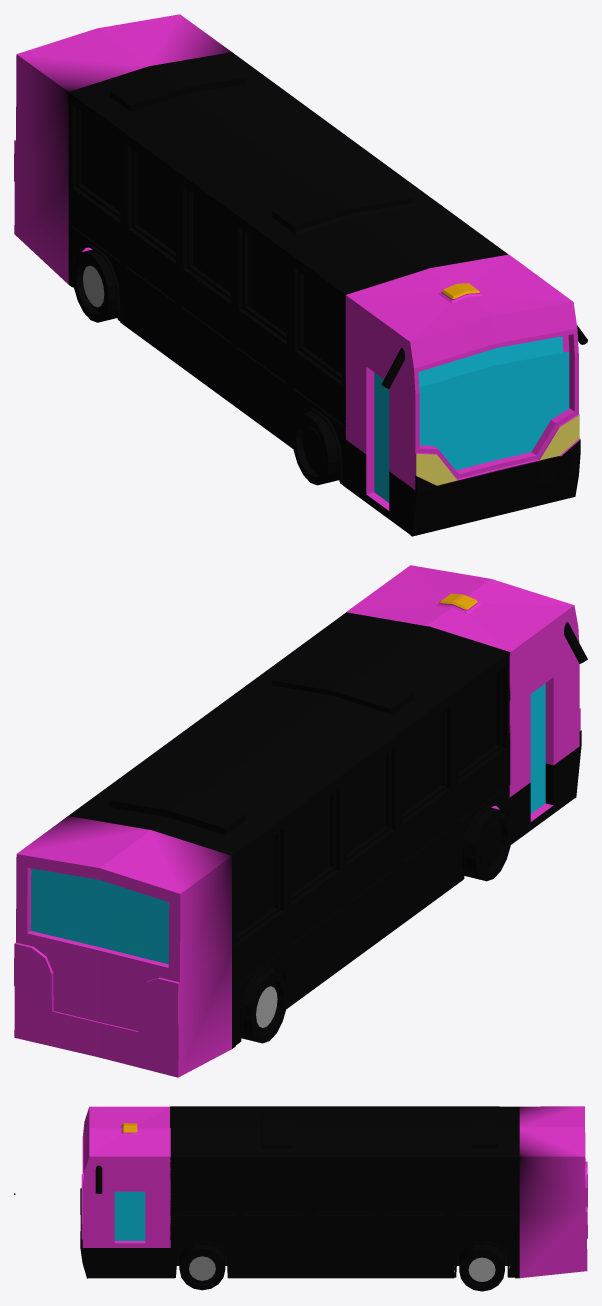
The model's file is Camion_Unity2.fbx.
3 renders of one model, top to bottom at view 1: azimuth 30°, elevation 25°; view 2: azimuth 150°, elevation 25°; view 3: azimuth 270°, elevation 25°, orthographic. The views are drawn at different scales.
Parts seen in each view (by area): view 1: Carroceria_trasera, Carroceria_delantera, ruedaDelantera_derecha, ruedaTrasera_derecha; view 2: Carroceria_trasera, Carroceria_delantera, ruedaDelantera_derecha, ruedaTrasera_derecha; view 3: Carroceria_trasera, Carroceria_delantera, ruedaTrasera_izquierda, ruedaDelantera_izquierda.
Part boxes in pixels (left/top/right/bottom): Carroceria_trasera: left=14, top=14, right=508, bottom=487; Carroceria_delantera: left=345, top=254, right=580, bottom=536; ruedaDelantera_derecha: left=292, top=412, right=339, bottom=485; ruedaTrasera_derecha: left=72, top=249, right=116, bottom=322; Carroceria_trasera: left=14, top=612, right=510, bottom=1077; Carroceria_delantera: left=346, top=565, right=581, bottom=844; ruedaDelantera_derecha: left=464, top=807, right=511, bottom=881; ruedaTrasera_derecha: left=241, top=970, right=287, bottom=1043; Carroceria_trasera: left=170, top=1106, right=587, bottom=1278; Carroceria_delantera: left=80, top=1106, right=170, bottom=1278; ruedaTrasera_izquierda: left=459, top=1244, right=504, bottom=1291; ruedaDelantera_izquierda: left=179, top=1245, right=225, bottom=1290.
Size of the model in its own units: 78.86 by 81.14 by 304.
